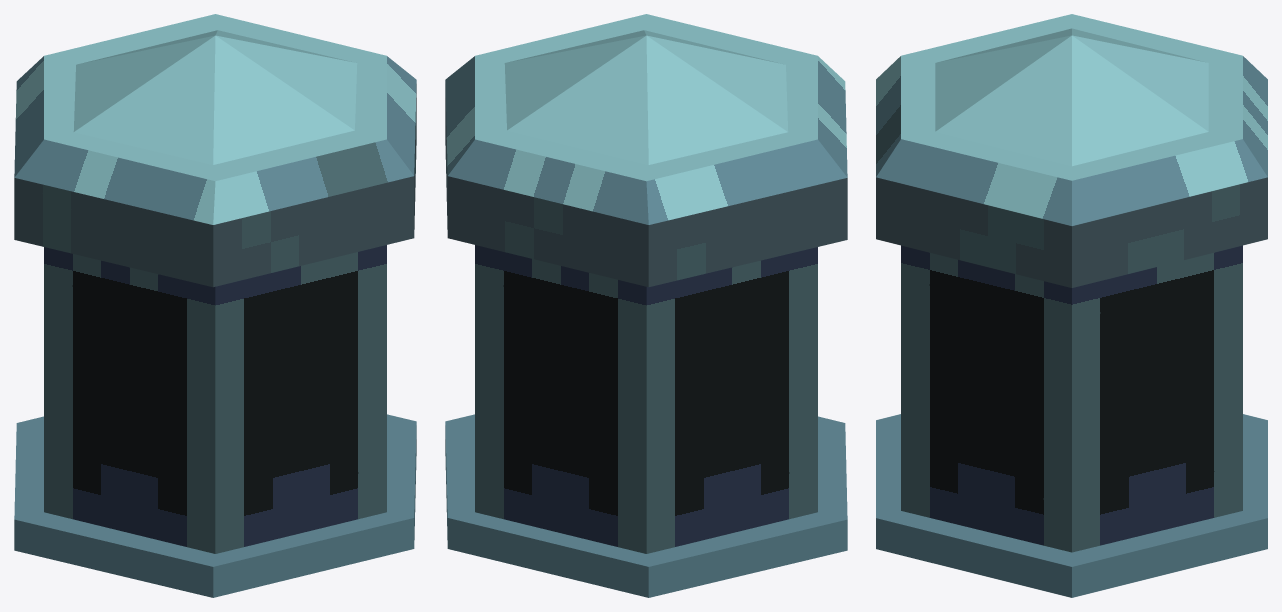
Rendered from lantern-2.glb.
3 views of the same model, side by side, from view 1: azimuth 30°, elevation 25°; view 2: azimuth 150°, elevation 25°; view 3: azimuth 270°, elevation 25° (orthographic).
Visible parts, largest first — view 1: lantern-2; view 2: lantern-2; view 3: lantern-2.
Boxes of the visible parts, x1=… form: lantern-2: x1=14, y1=14, x2=416, y2=597; lantern-2: x1=445, y1=14, x2=847, y2=597; lantern-2: x1=876, y1=14, x2=1267, y2=597.
Size of what is drawn, in the model's own units: 0.1058 by 0.1172 by 0.0896.
1 material, 1 textured.
